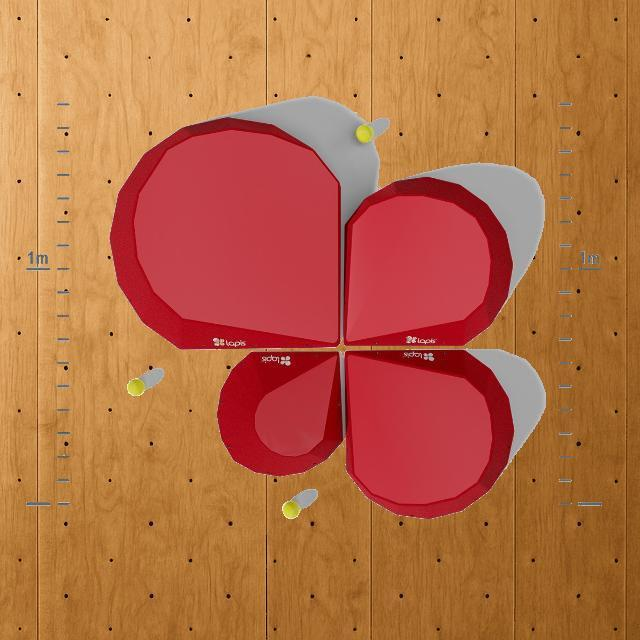Volume: (108, 116, 342, 350), (344, 350, 516, 520), (343, 176, 512, 346), (216, 351, 344, 477)
